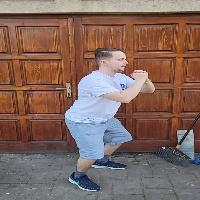squats: (58, 38, 157, 182)
